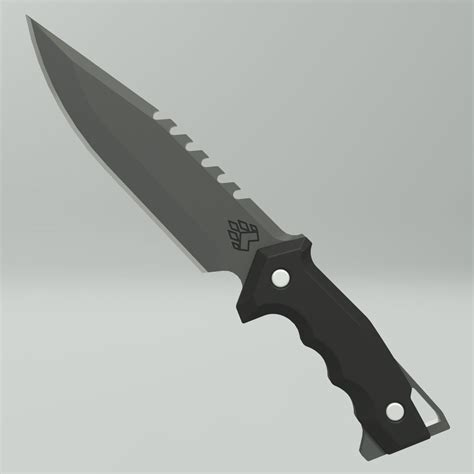knife: (24, 15, 450, 462)
